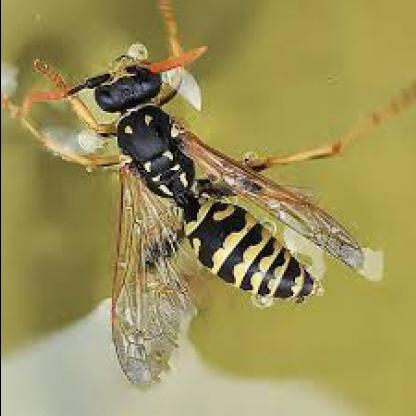other: (28, 24, 333, 386)
